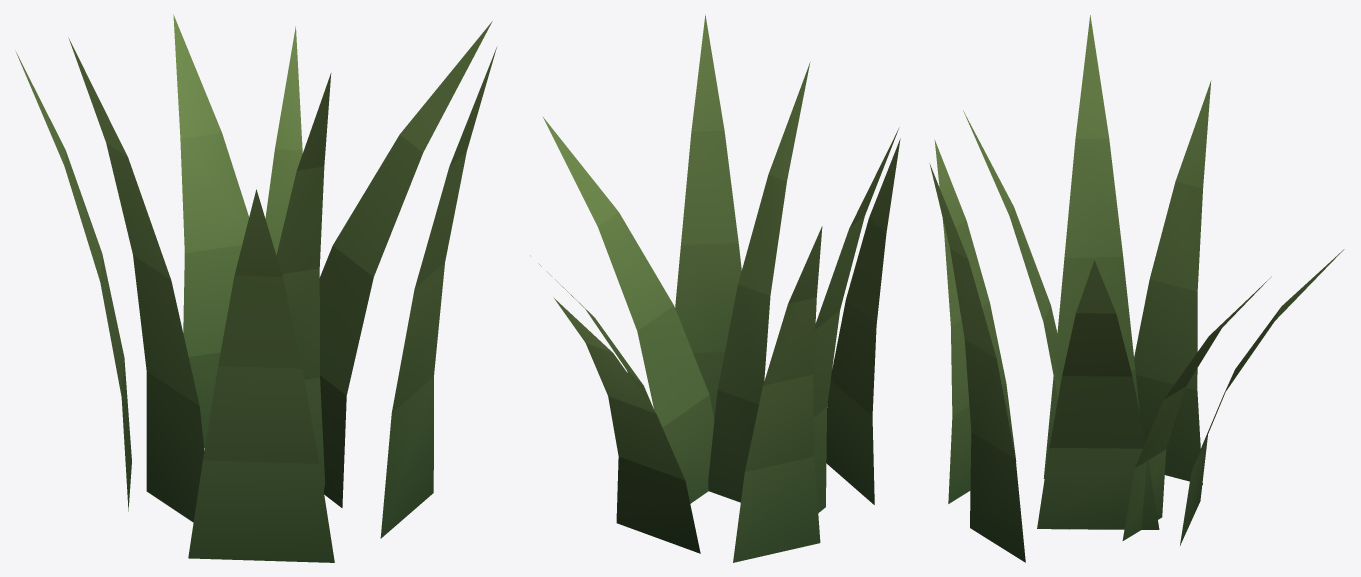
The model's file is grass_clump_03.glb.
3 views of the same model, side by side, from view 1: azimuth 30°, elevation 25°; view 2: azimuth 150°, elevation 25°; view 3: azimuth 270°, elevation 25° (orthographic). The views are drawn at different scales.
Visible parts, largest first — view 1: Grass_Clump; view 2: Grass_Clump; view 3: Grass_Clump.
Part boxes in pixels (box(x1,y1,x2,y2)): Grass_Clump: box(15, 14, 497, 562); Grass_Clump: box(530, 14, 900, 562); Grass_Clump: box(929, 15, 1344, 562).
Size of the model in its own units: 0.4299 by 0.4876 by 0.4415.
